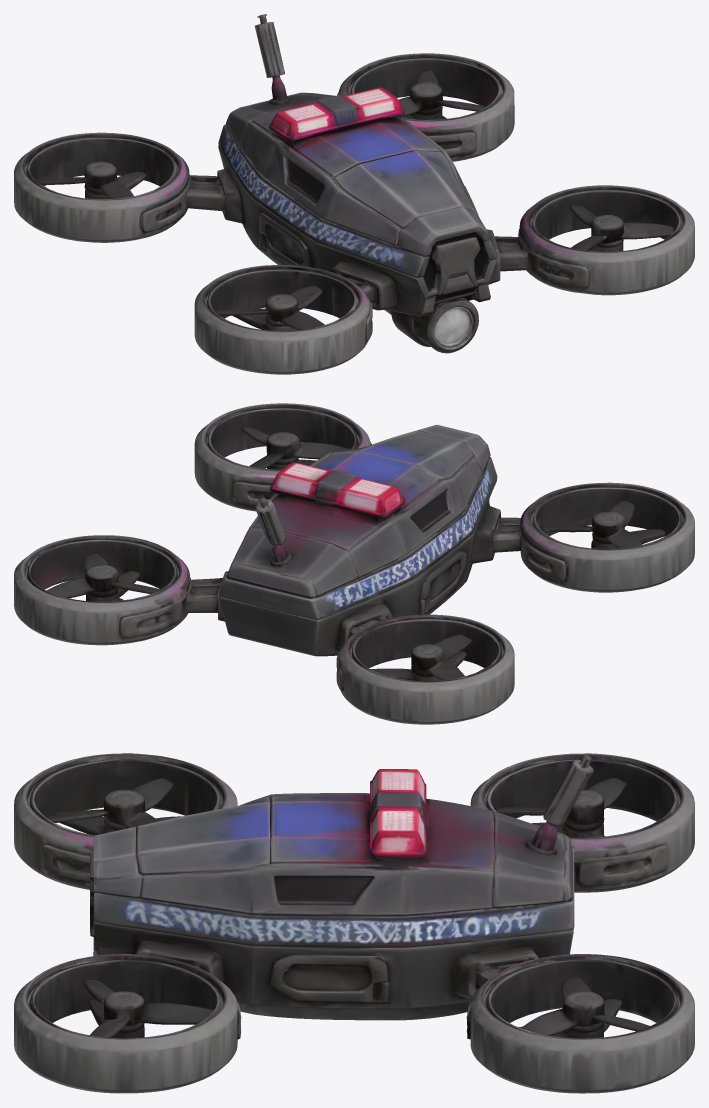
The picture shows the model from 3 angles, top to bottom: view 1: azimuth 30°, elevation 25°; view 2: azimuth 150°, elevation 25°; view 3: azimuth 270°, elevation 25°; orthographic projection. The views are drawn at different scales.
Visible parts, largest first — view 1: material; view 2: material; view 3: material.
Part boxes in pixels (x1=…): material: x1=14, y1=14, x2=694, y2=374; material: x1=14, y1=403, x2=694, y2=724; material: x1=14, y1=753, x2=694, y2=1093.
Bounding box in the file's own units: 0.9373 × 0.3837 × 0.9159.
1 material, 1 textured.
